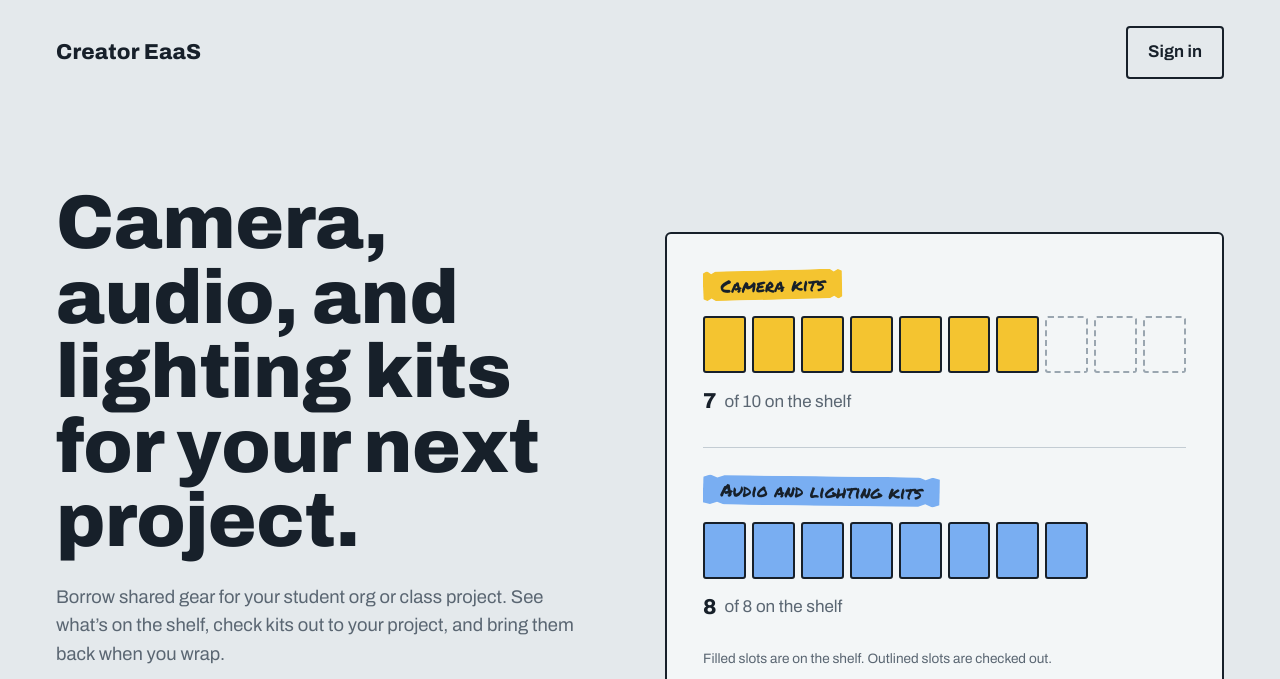
Test: a rejected checkout shows the server’s message in that row
The width and height of the screenshot is (1280, 679).
Check: the text "Camera kits" is shown, box [703, 268, 843, 301]
Click the button "Sign in" in the row of "Creator EaaS": (1175, 52) [1126, 26, 1224, 79]
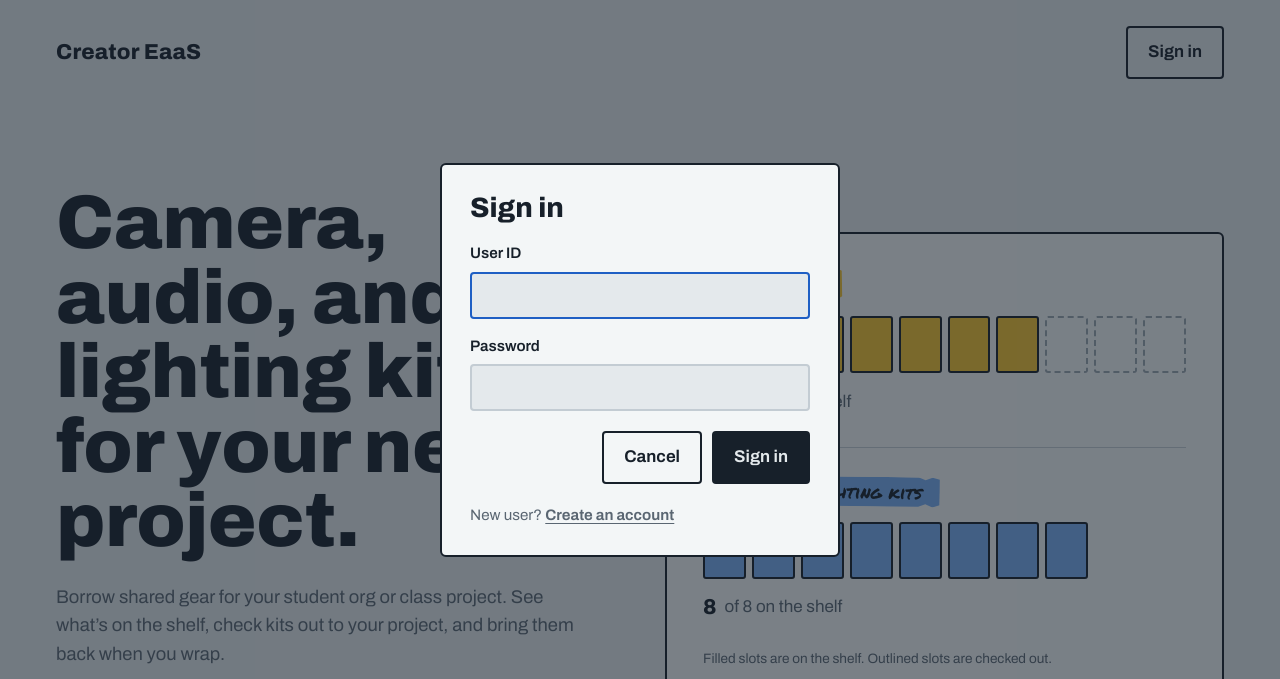
In the field labelled "User ID": (640, 295) [470, 272, 810, 318], type "alice"
In the password field labelled "Password": (640, 387) [470, 364, 810, 411], type "pw-123"
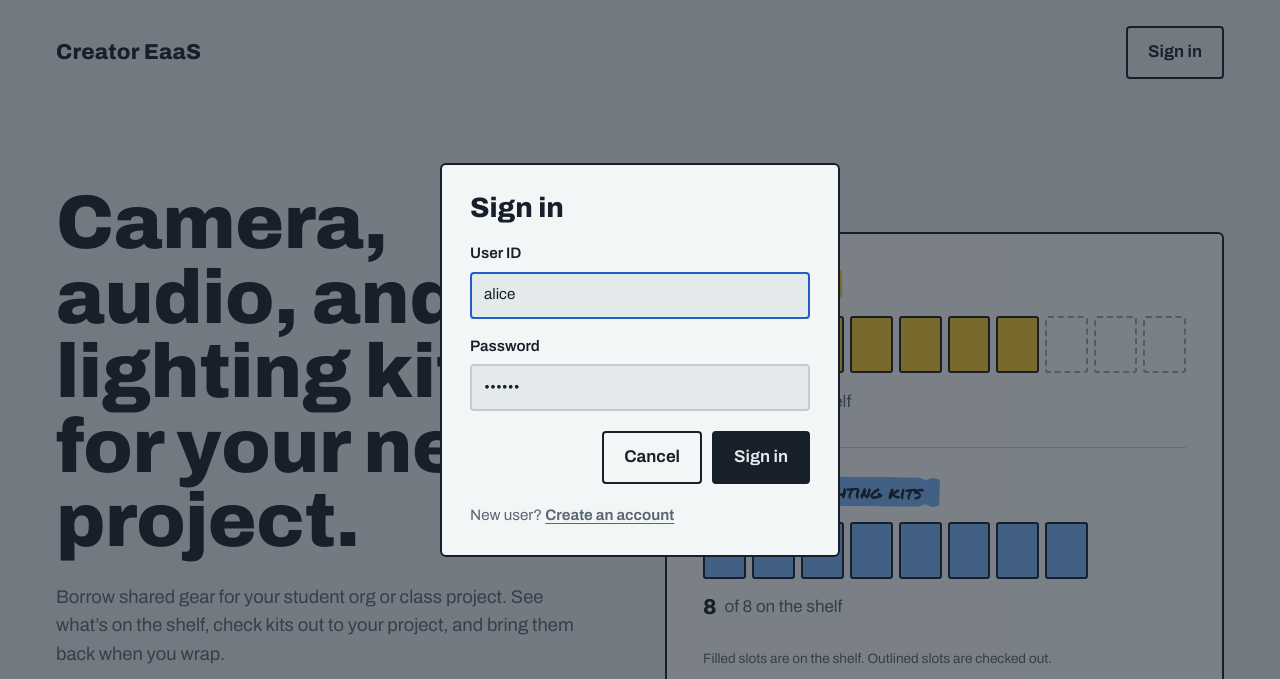
Click the button "Sign in": (761, 457) [712, 431, 810, 484]
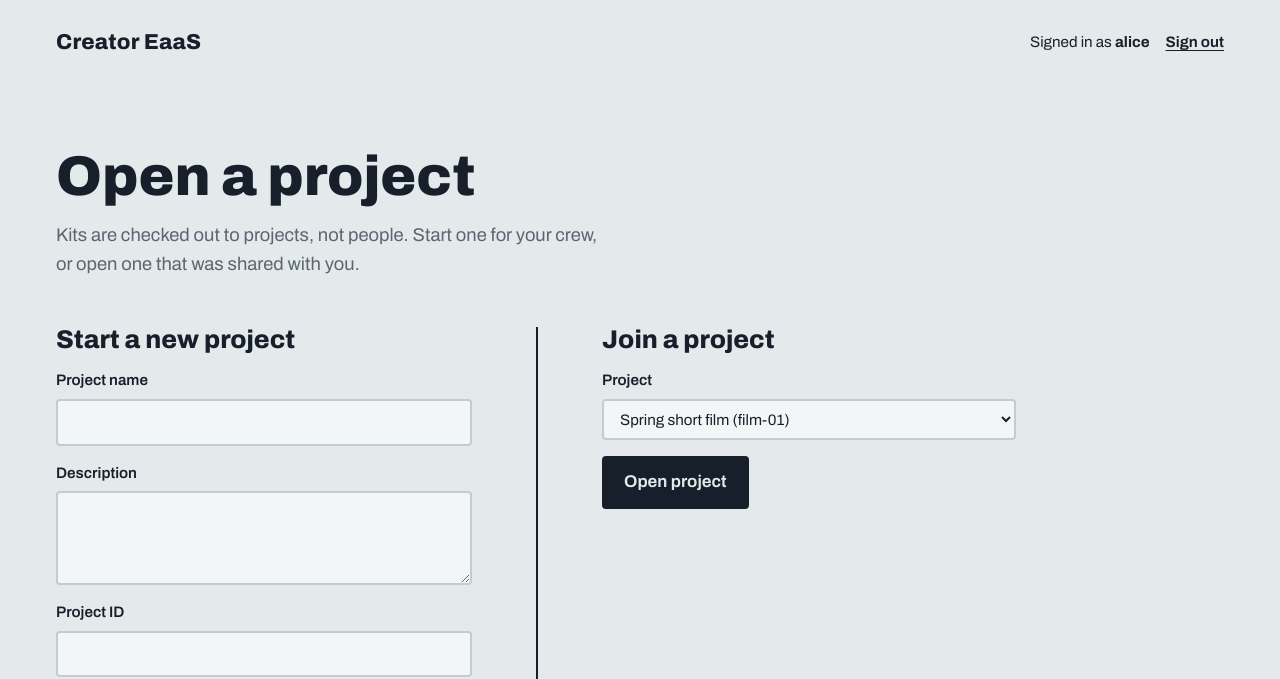
Check: the heading "Open a project" is shown, box [56, 146, 475, 208]
Check: the dropdown labelled "Project" is enabled
Select "Spring short film (film-01)" in the dropdown labelled "Project": (809, 420) [602, 399, 1016, 440]
Click the button "Open project": (675, 482) [602, 456, 749, 509]
(page scrolled)
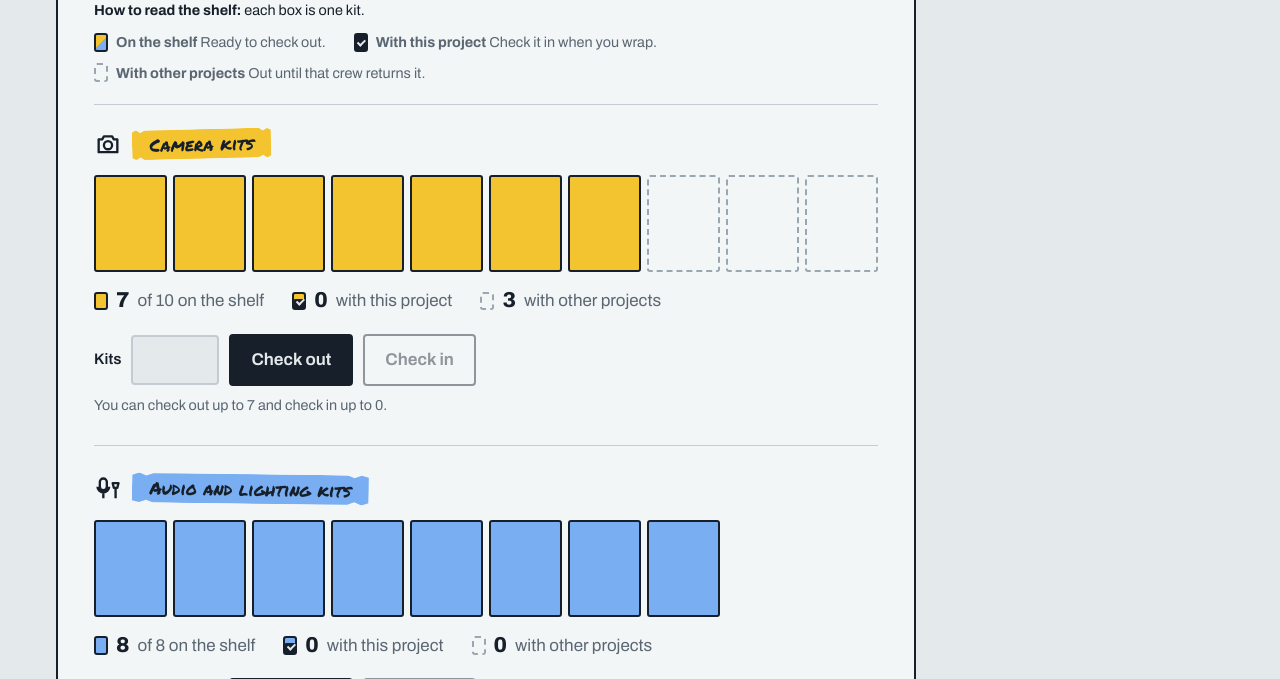
Check: the text "Camera kits" is shown, box [132, 128, 272, 160]
In the number field named "Camera kits": (175, 360) [131, 335, 219, 385], type "9"
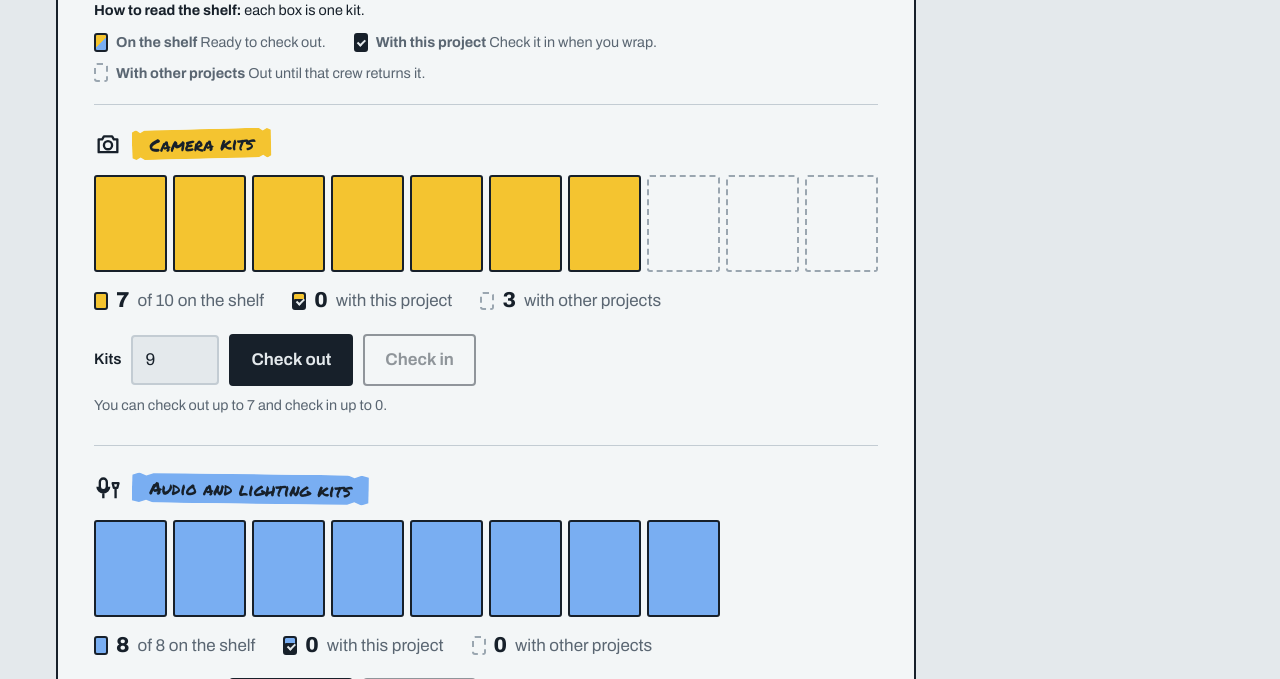
Click the button "Check out" below "10": (291, 360) [229, 334, 353, 386]
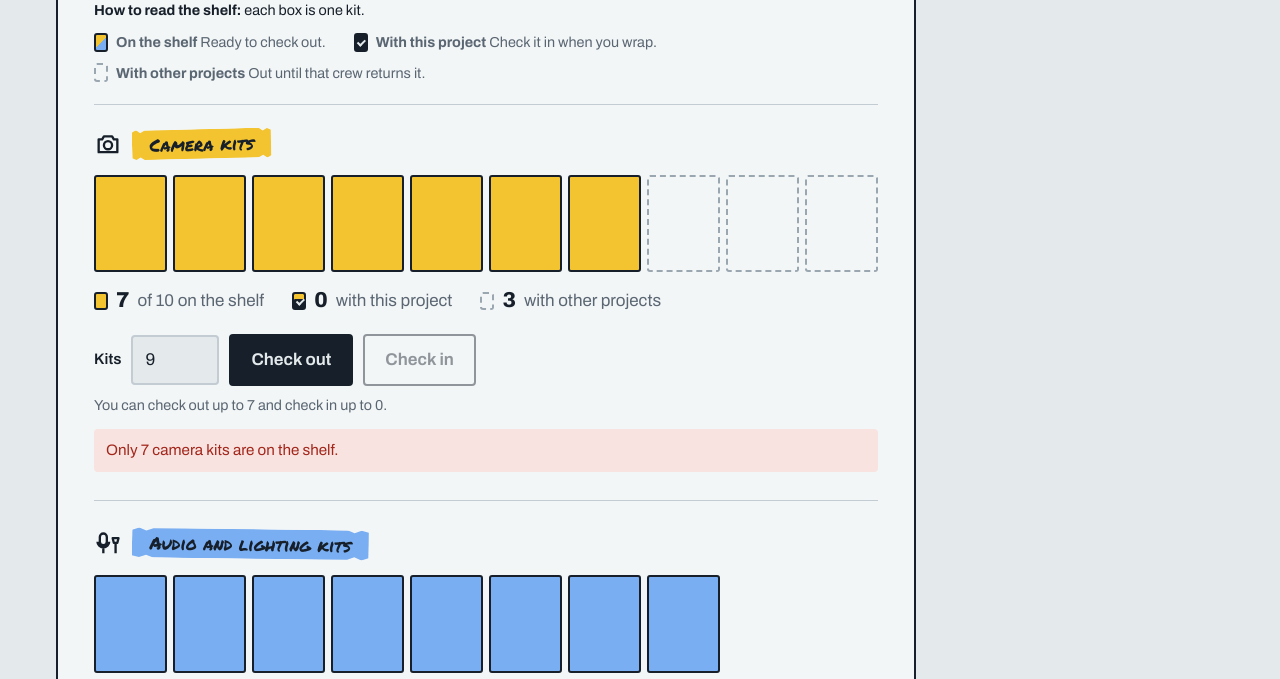
Check: the message reads "Only 7 camera kits are on the shelf.", box [106, 442, 338, 458]
